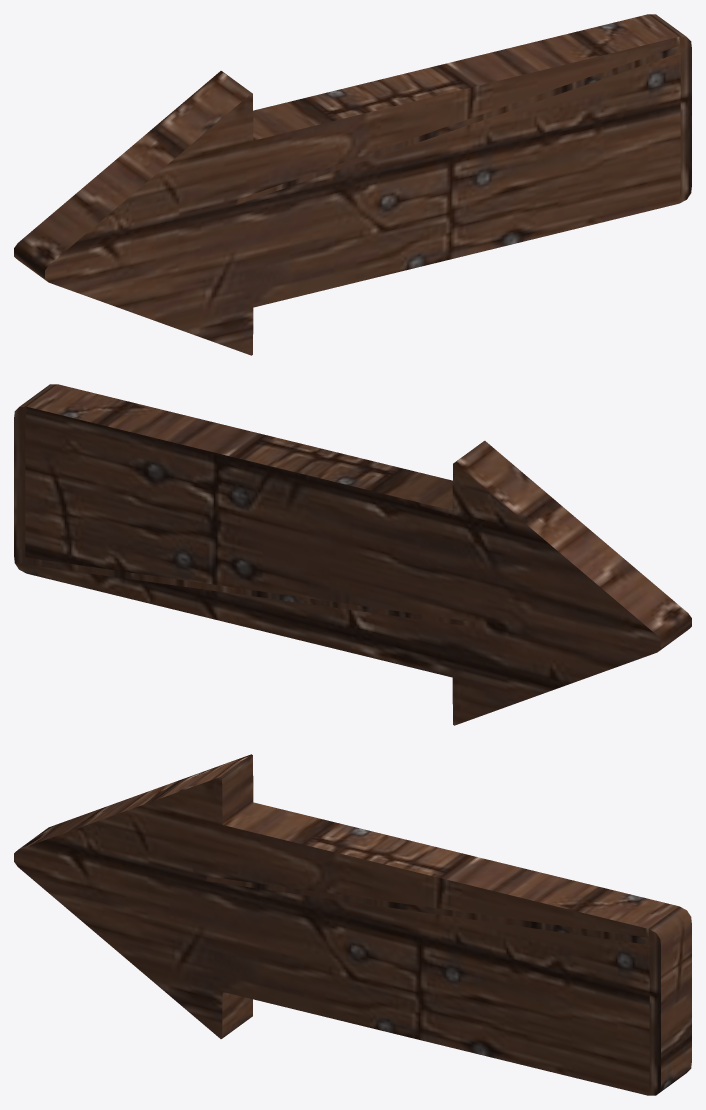
Rendered from flecheps.obj.
3 renders of one model, top to bottom at view 1: azimuth 30°, elevation 25°; view 2: azimuth 150°, elevation 25°; view 3: azimuth 330°, elevation 25°, orthographic.
Visible parts, largest first — view 1: Arrow5; view 2: Arrow5; view 3: Arrow5.
Boxes of the visible parts, box(x1,y1,x2,y2) form: Arrow5: box(14, 14, 691, 355); Arrow5: box(14, 384, 691, 725); Arrow5: box(14, 754, 691, 1095).
Bounding box in the file's own units: 10.75 × 4.17 × 0.8871.
1 material, 1 textured.
